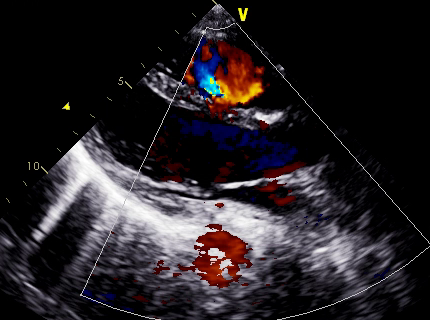AR: (202, 149, 311, 177)
